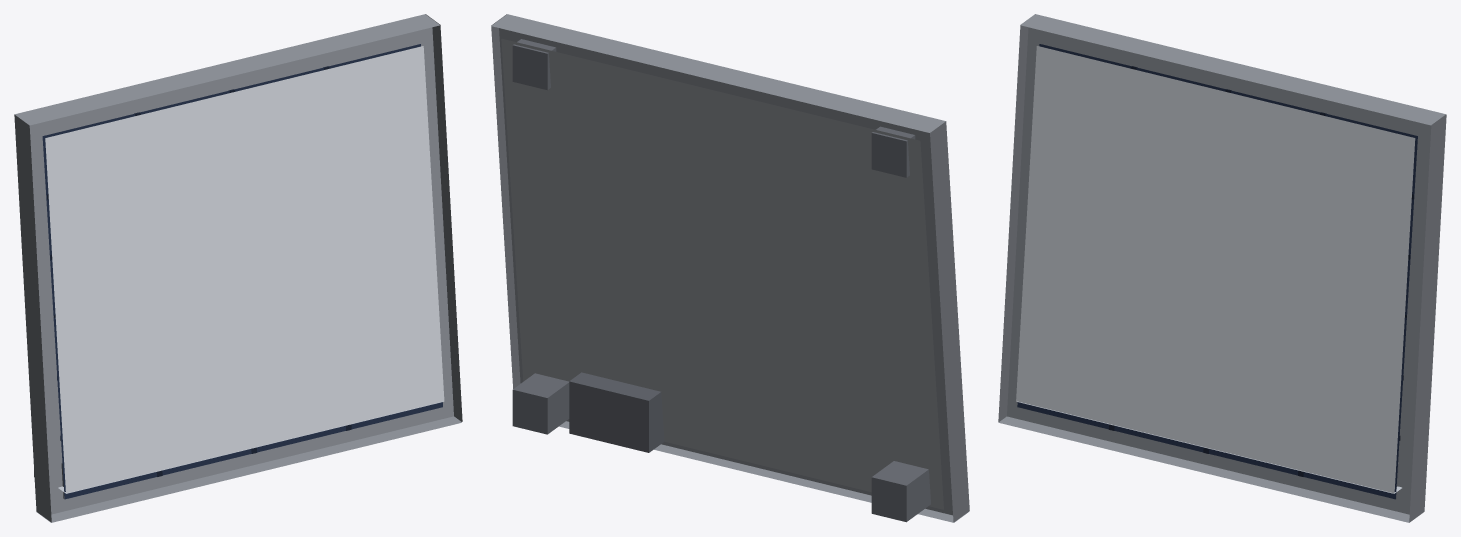
File: array_flat_standard_snow_S.obj
3 views of the same model, side by side, from view 1: azimuth 30°, elevation 25°; view 2: azimuth 150°, elevation 25°; view 3: azimuth 330°, elevation 25° (orthographic). The views are drawn at different scales.
Visible parts, largest first — view 1: array_flat_standard_snow_S; view 2: array_flat_standard_snow_S; view 3: array_flat_standard_snow_S.
Boxes of the visible parts, bbox=[...] form: array_flat_standard_snow_S: bbox=[14, 14, 462, 522]; array_flat_standard_snow_S: bbox=[491, 14, 969, 522]; array_flat_standard_snow_S: bbox=[998, 14, 1446, 522].
Bounding box in the file's own units: 0.881 × 0.781 × 0.142.
Materials: 1 (1 with a texture image).
